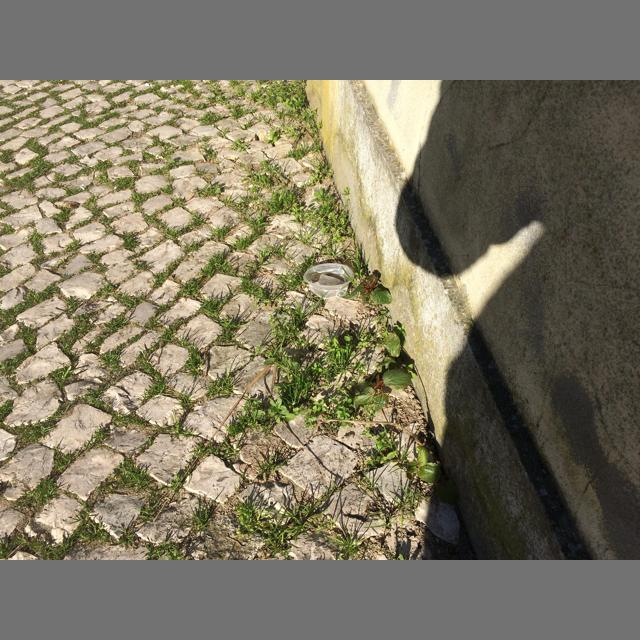litter: (303, 263, 354, 300)
